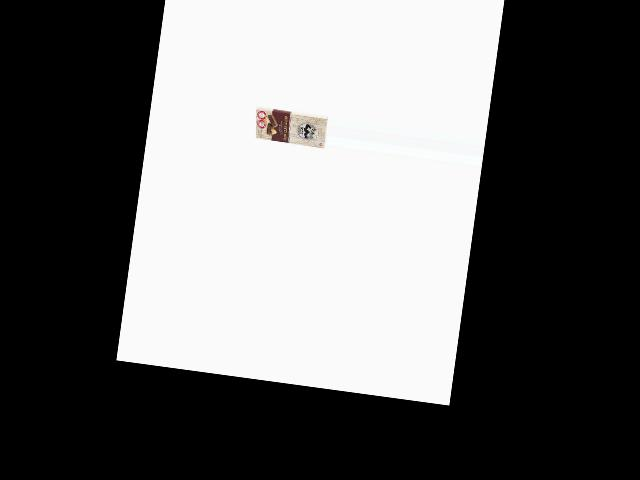chocolate: (251, 101, 329, 149)
